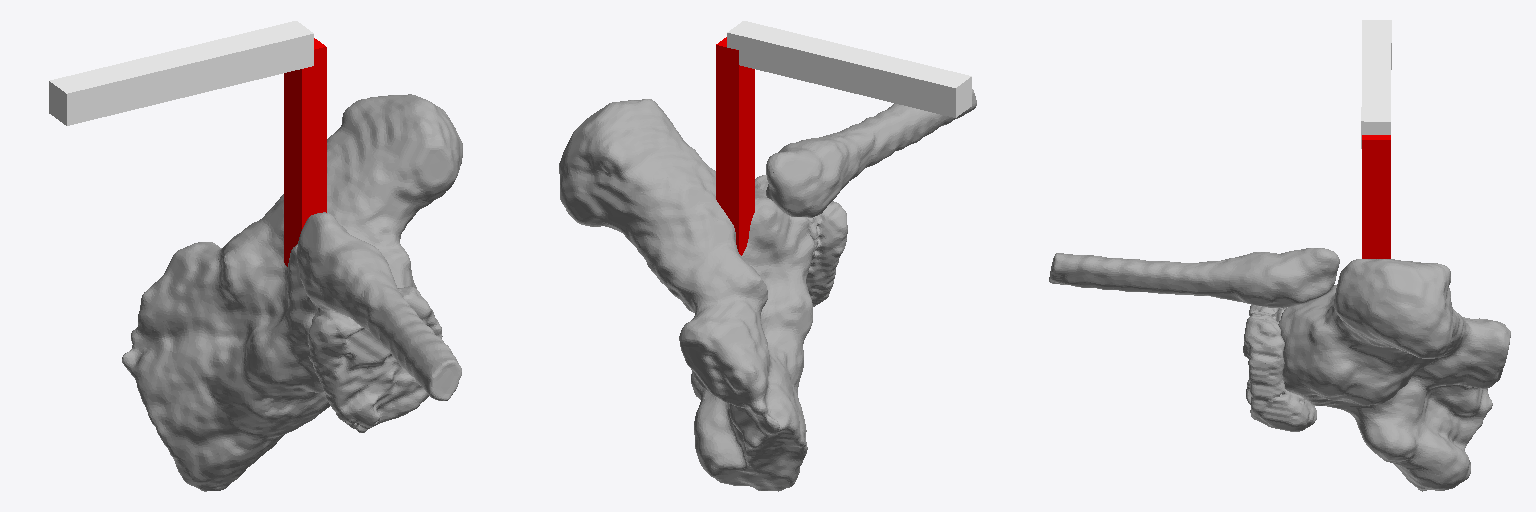
robot.urdf — L_shaped_tool:
<?xml version="1.0" ?>
<robot name="L_shaped_tool">

  <link name="base_link">
    <inertial>
      <origin xyz="-0.04 0 0" rpy="0 0 1.57"/>
      <mass value="0.01"/> <inertia ixx="0.0001" ixy="0" ixz="0" iyy="0.0001" iyz="0" izz="0.0001"/>
    </inertial>
    <visual>
      <origin xyz="-0.04 -0.0 0" rpy="0 0 1.57"/>
      <geometry><box size="0.01 0.08 0.01"/></geometry>
      <material name="white"><color rgba="1 1 1 1"/></material>
    </visual>
    <collision>
      <origin xyz="-0.04 0 0" rpy="0 0 1.57"/>
      <geometry><box size="0.01 0.08 0.01"/></geometry>
    </collision>
  </link>

  <joint name="load_cell_joint" type="fixed">
    <parent link="base_link"/>
    <child link="pin_link"/>
    <origin xyz="0 0 0" rpy="0 0 0"/>
  </joint>

  <link name="pin_link">
    <inertial>
      <origin xyz="0 0 -0.04" rpy="0 0 0"/>
      <mass value="0.01"/> <inertia ixx="0.0001" ixy="0" ixz="0" iyy="0.0001" iyz="0" izz="0.0001"/>
    </inertial>
    <visual>
      <origin xyz="0 0 -0.04" rpy="0 0 0"/>
      <geometry><box size="0.008 0.01 0.08"/></geometry>
      <material name="red"><color rgba="1 0 0 1"/></material>
    </visual>
    <collision>
      <origin xyz="0 0 -0.04" rpy="0 0 0"/>
      <geometry><box size="0.008 0.01 0.08"/></geometry>
    </collision>
  </link>

  <joint name="ankle_mount_joint" type="fixed">
    <parent link="pin_link"/>
    <child link="moving_link"/>
    <origin xyz="-0.0 -0.01 -0.08" rpy="1.57 0 0"/>
  </joint>

  <link name="moving_link">
    <inertial>
      <mass value="0.276" />
      <origin xyz="0 0 0" rpy="0 0 0"/>
      <inertia ixx="0.0004" ixy="0.0" ixz="0.0" iyy="0.0004" iyz="0.0" izz="0.0004" />
    </inertial>
    <visual>
      <origin rpy="0 0 0" xyz="0 0 0" />
      <geometry><mesh filename="distal_252.obj" scale="1 1 1" /></geometry>
      <material name="grey"><color rgba="0.7 0.7 0.7 1"/></material>
    </visual>
    <collision>
      <origin rpy="0 0 0" xyz="0 0 0" />
      <geometry><mesh filename="distal_252.obj" scale="0.9 0.9 0.9" /></geometry>
    </collision>
  </link>
</robot>

--- What the picture shows (computed from the rendered views, not written in the file) ---
Views: 3 orthographic renders of the robot side by side, from view 1: azimuth 30°, elevation 25°; view 2: azimuth 150°, elevation 25°; view 3: azimuth 270°, elevation 25°.
Model L_shaped_tool with 3 links and 2 joints (2 fixed), rooted at base_link, posed all joints at 0.
Links seen in each view (by area): view 1: moving_link, base_link, pin_link; view 2: moving_link, base_link, pin_link; view 3: moving_link, pin_link, base_link.
Boxes of the visible links, x1,y1,x2,y2 form: moving_link: [122, 94, 462, 491]; base_link: [49, 21, 313, 125]; pin_link: [284, 38, 326, 266]; moving_link: [559, 89, 976, 491]; base_link: [727, 21, 971, 117]; pin_link: [716, 37, 754, 255]; moving_link: [1049, 248, 1510, 491]; pin_link: [1362, 135, 1390, 258]; base_link: [1361, 20, 1391, 148].
Bounding box of the posed robot: 0.1335 × 0.1548 × 0.1449 m (x, y, z).
Meshes: 1 distinct files referenced, 1 mesh visuals loaded (1 OBJ).
